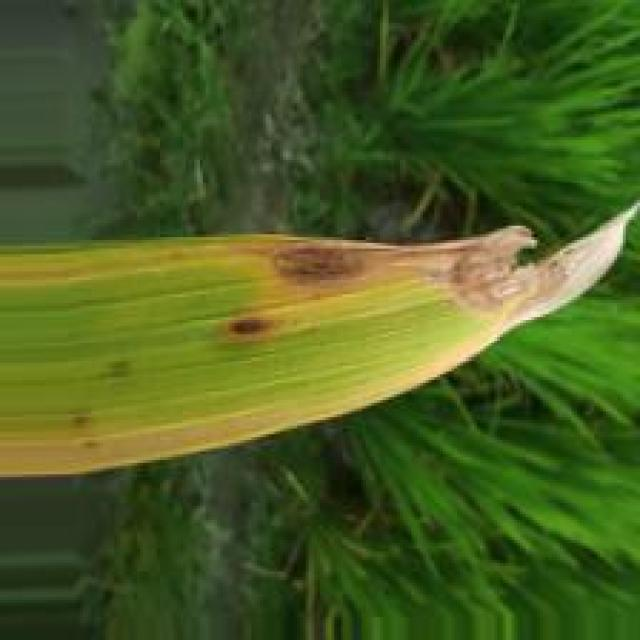Narrow_Brown_Leaf_Spot: (3, 221, 624, 480)
